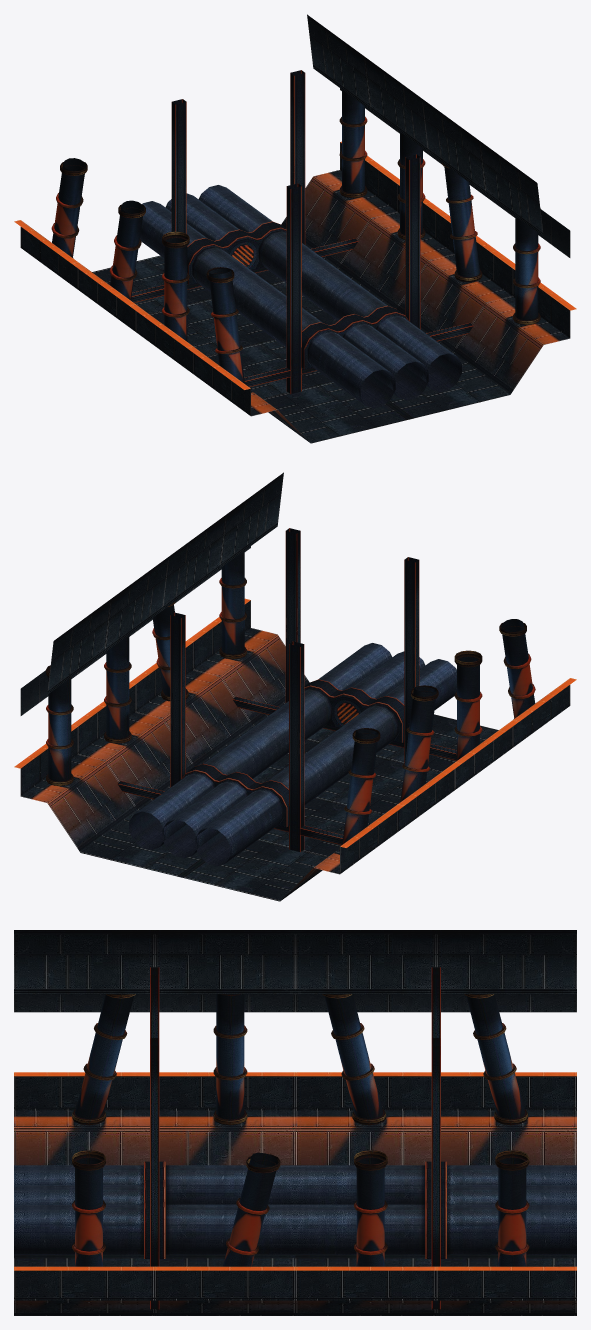
3 renders of one model, top to bottom at view 1: azimuth 30°, elevation 25°; view 2: azimuth 150°, elevation 25°; view 3: azimuth 270°, elevation 25°, orthographic. The views are drawn at different scales.
Visible parts, largest first — view 1: bg_a_wall00, bg_a_wall03, tube_00, bg_a_wall01; view 2: bg_a_wall00, bg_a_wall03, tube_00, bg_a_wall01; view 3: bg_a_wall00, bg_a_wall01, bg_a_wall03, tube_00.
Part boxes in pixels (x1=…): bg_a_wall00: x1=14, y1=141, x2=576, y2=443; bg_a_wall03: x1=51, y1=70, x2=540, y2=394; tube_00: x1=140, y1=185, x2=461, y2=408; bg_a_wall01: x1=307, y1=14, x2=570, y2=257; bg_a_wall00: x1=14, y1=598, x2=576, y2=901; bg_a_wall03: x1=46, y1=528, x2=535, y2=852; tube_00: x1=129, y1=643, x2=456, y2=866; bg_a_wall01: x1=20, y1=472, x2=283, y2=715; bg_a_wall00: x1=14, y1=1072, x2=576, y2=1315; bg_a_wall01: x1=14, y1=930, x2=576, y2=1012; bg_a_wall03: x1=72, y1=967, x2=529, y2=1309; tube_00: x1=14, y1=1165, x2=576, y2=1254.
Bounding box in the file's own units: 5000 × 2950 × 6000.
Materials: 3 (3 with a texture image).
